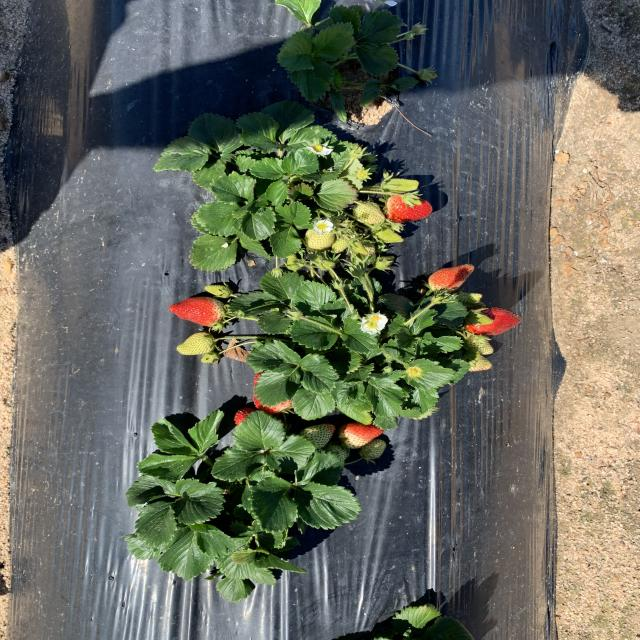unripe: (251, 372, 302, 412), (167, 297, 227, 327), (463, 307, 523, 335), (428, 263, 478, 291), (235, 408, 274, 443), (385, 197, 433, 221), (340, 423, 386, 446)
